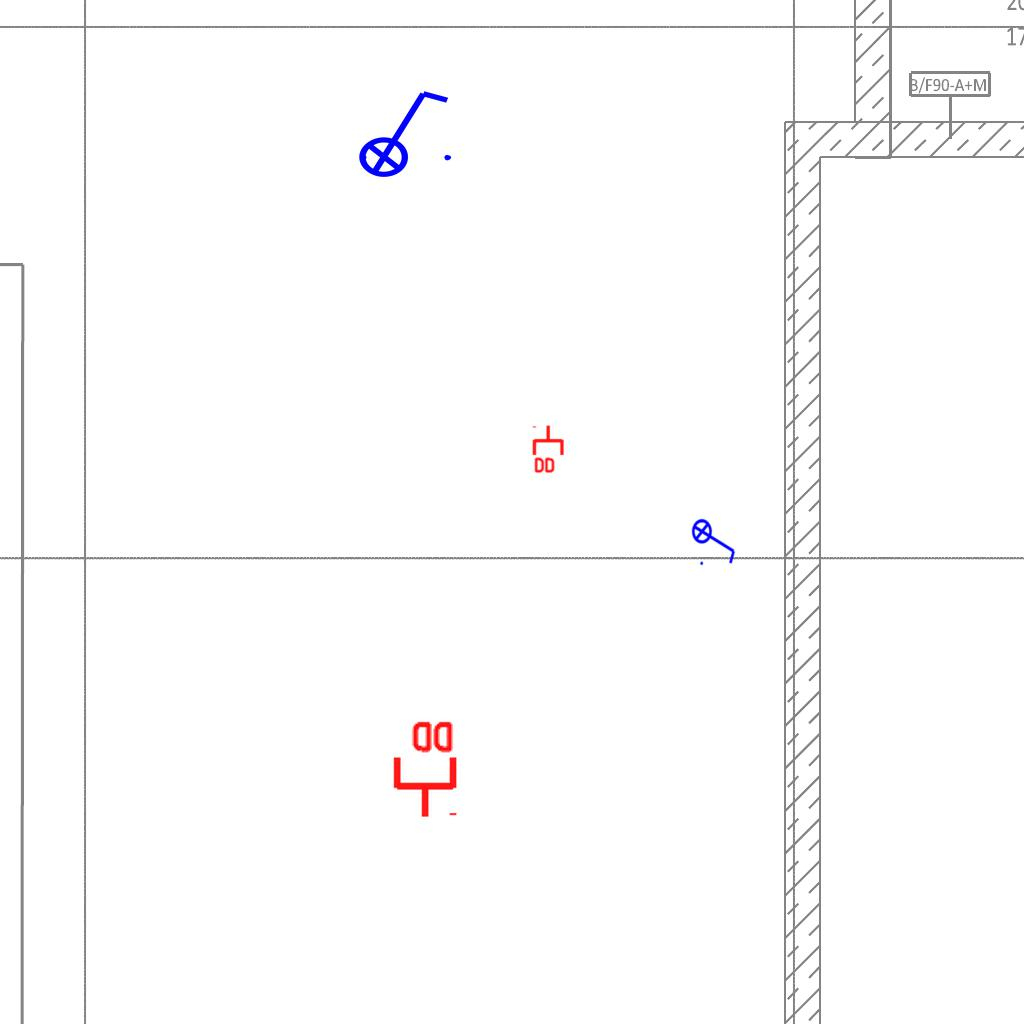Ausschalter_beleuchtet: (345, 83, 457, 179), (691, 512, 739, 568)
Datenanschluss_zweifach: (389, 717, 458, 820), (532, 424, 566, 475)
